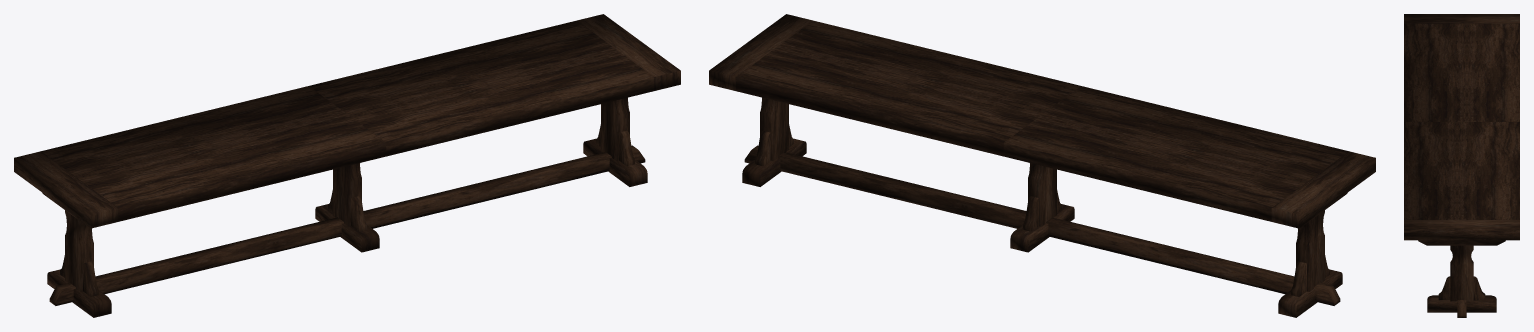
Rendered from table.glb.
3 renders of one model, left to right at view 1: azimuth 30°, elevation 25°; view 2: azimuth 150°, elevation 25°; view 3: azimuth 270°, elevation 25°, orthographic. The views are drawn at different scales.
Visible parts, largest first — view 1: trn_TableExtraLong; view 2: trn_TableExtraLong; view 3: trn_TableExtraLong.
Boxes of the visible parts, x1,y1,x2,y2 form: trn_TableExtraLong: (14,14,680,317); trn_TableExtraLong: (709,14,1375,317); trn_TableExtraLong: (1404,14,1519,317).
Bounding box in the file's own units: 2.69 × 0.5205 × 0.6125.
1 material, 1 textured.
